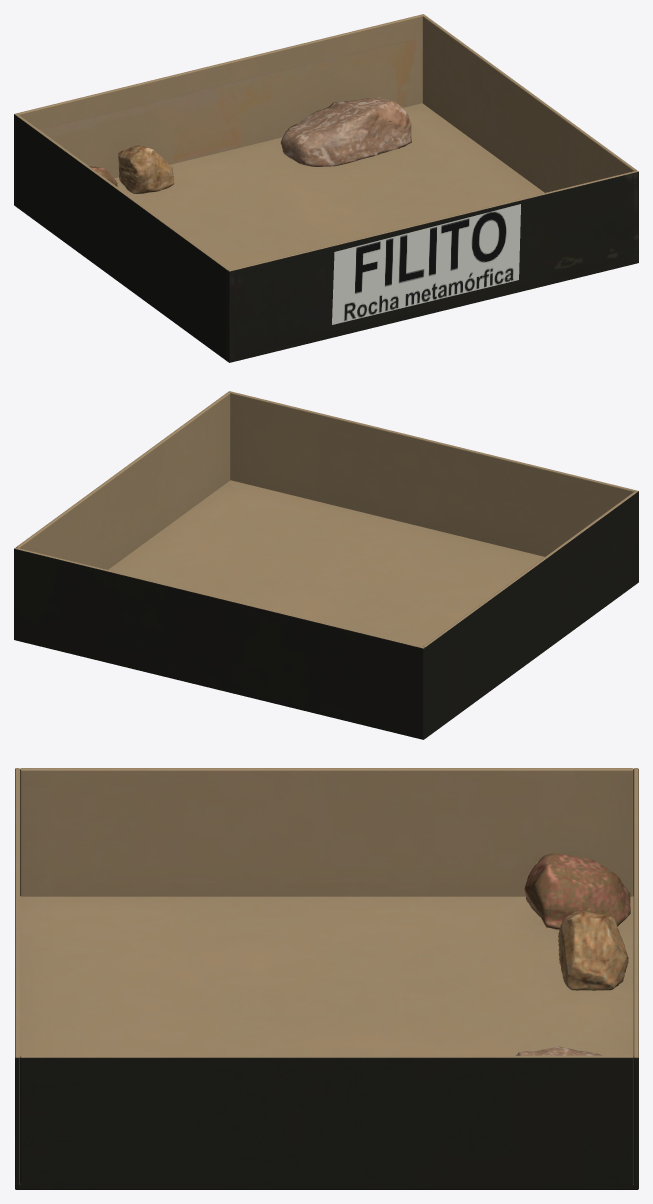
Rendered from rocha_02_16_filito.glb.
3 renders of one model, top to bottom at view 1: azimuth 30°, elevation 25°; view 2: azimuth 150°, elevation 25°; view 3: azimuth 270°, elevation 25°, orthographic. The views are drawn at different scales.
Visible parts, largest first — view 1: Bandeja_Base_mo16, Bandeja_Fundo_mo16, Bandeja_Frente_mo16, Bandeja_Esquerda_mo16, Bandeja_Direita_mo16, Etiqueta_mo16, Fragmento_03_mo16, Fragmento_02_mo16; view 2: Bandeja_Base_mo16, Bandeja_Fundo_mo16, Bandeja_Frente_mo16, Bandeja_Esquerda_mo16, Bandeja_Direita_mo16; view 3: Bandeja_Base_mo16, Bandeja_Direita_mo16, Bandeja_Esquerda_mo16, Fragmento_01_mo16, Fragmento_02_mo16, Bandeja_Fundo_mo16, Bandeja_Frente_mo16.
Boxes of the visible parts, bbox=[...] form: Bandeja_Base_mo16: bbox=[14, 103, 588, 362]; Bandeja_Fundo_mo16: bbox=[14, 14, 424, 205]; Bandeja_Frente_mo16: bbox=[227, 170, 638, 362]; Bandeja_Esquerda_mo16: bbox=[15, 114, 229, 359]; Bandeja_Direita_mo16: bbox=[422, 15, 636, 192]; Etiqueta_mo16: bbox=[332, 204, 520, 324]; Fragmento_03_mo16: bbox=[280, 97, 411, 166]; Fragmento_02_mo16: bbox=[118, 145, 174, 194]; Bandeja_Base_mo16: bbox=[14, 480, 638, 739]; Bandeja_Fundo_mo16: bbox=[14, 547, 425, 738]; Bandeja_Frente_mo16: bbox=[228, 391, 638, 579]; Bandeja_Esquerda_mo16: bbox=[423, 491, 637, 734]; Bandeja_Direita_mo16: bbox=[16, 392, 230, 569]; Bandeja_Base_mo16: bbox=[15, 896, 638, 1189]; Bandeja_Direita_mo16: bbox=[20, 1055, 633, 1184]; Bandeja_Esquerda_mo16: bbox=[20, 768, 633, 896]; Fragmento_01_mo16: bbox=[524, 853, 630, 929]; Fragmento_02_mo16: bbox=[558, 910, 628, 990]; Bandeja_Fundo_mo16: bbox=[633, 768, 638, 1188]; Bandeja_Frente_mo16: bbox=[15, 768, 19, 1189].
Bounding box in the file's own units: 0.196 × 0.0419 × 0.1787.
3 materials, 3 textured.
